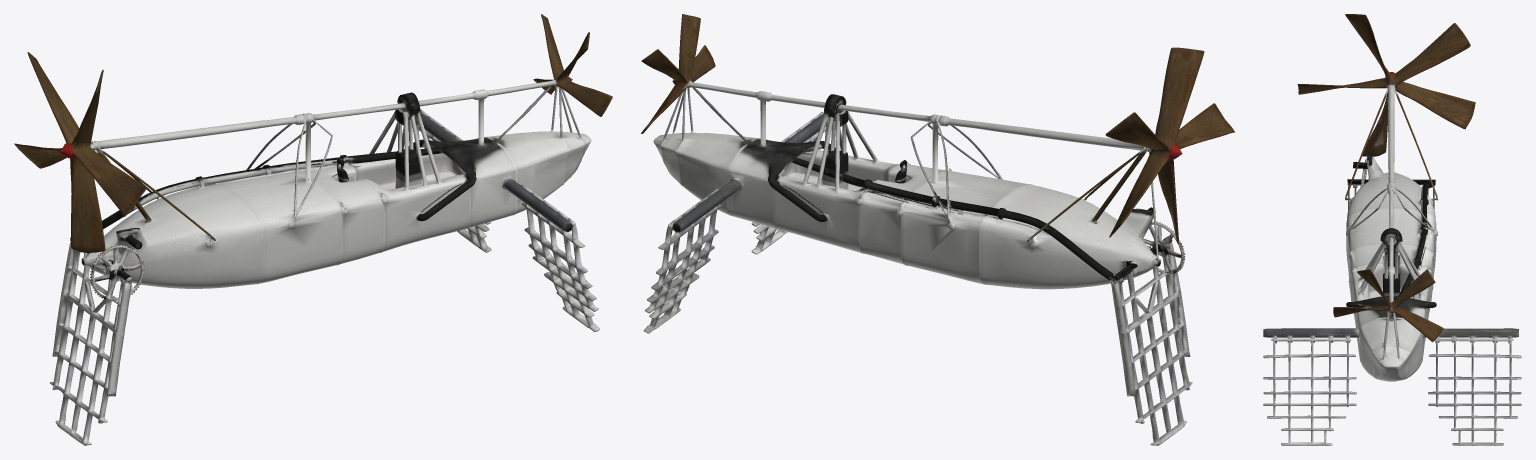
Rendered from opera01.glb.
The picture shows the model from 3 angles, left to right: view 1: azimuth 30°, elevation 25°; view 2: azimuth 150°, elevation 25°; view 3: azimuth 270°, elevation 25°; orthographic projection. The views are drawn at different scales.
Parts seen in each view (by area): view 1: tripo_node_414f39d5-5a28-42e1-b787-b11c7988f733; view 2: tripo_node_414f39d5-5a28-42e1-b787-b11c7988f733; view 3: tripo_node_414f39d5-5a28-42e1-b787-b11c7988f733.
Boxes of the visible parts, x1=… form: tripo_node_414f39d5-5a28-42e1-b787-b11c7988f733: x1=14, y1=14, x2=612, y2=445; tripo_node_414f39d5-5a28-42e1-b787-b11c7988f733: x1=641, y1=14, x2=1234, y2=445; tripo_node_414f39d5-5a28-42e1-b787-b11c7988f733: x1=1263, y1=14, x2=1521, y2=445.
Bounding box in the file's own units: 1 × 0.6801 × 0.5377.
Materials: 1 (1 with a texture image).
